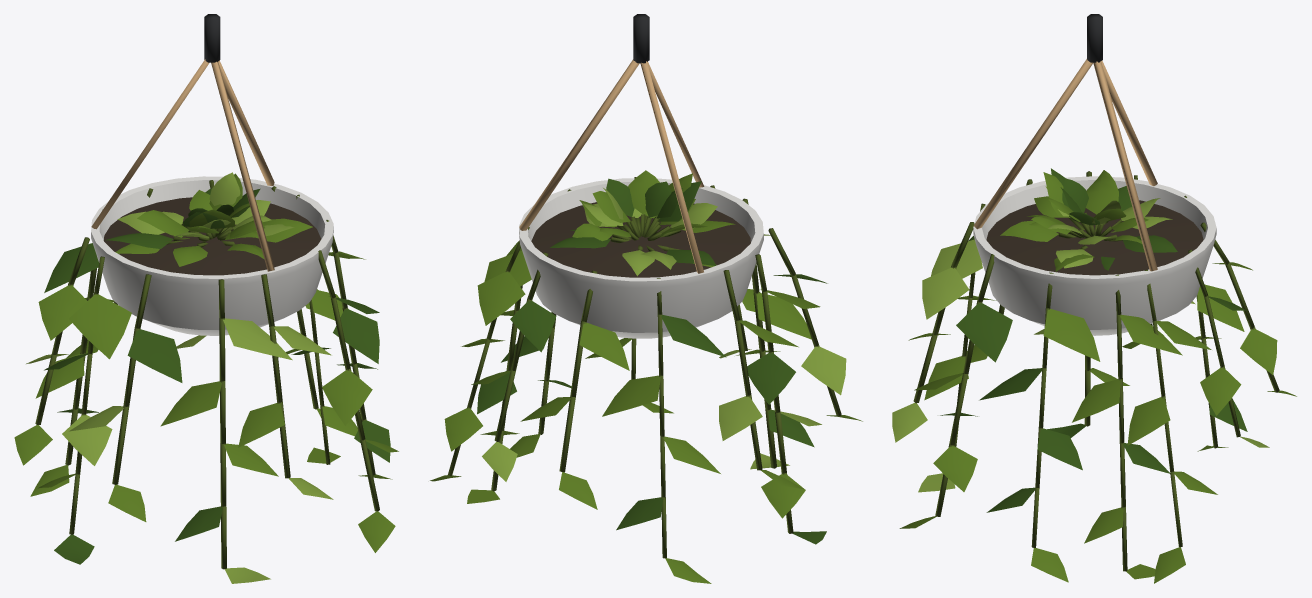
File: greenery.hanging-planter.glb
The picture shows the model from 3 angles, left to right: view 1: azimuth 30°, elevation 25°; view 2: azimuth 150°, elevation 25°; view 3: azimuth 270°, elevation 25°; orthographic projection.
Parts seen in each view (by area): view 1: greenery.hanging-planter.001; view 2: greenery.hanging-planter.001; view 3: greenery.hanging-planter.001.
Part boxes in pixels (box(x1,y1,x2,y2)): greenery.hanging-planter.001: box(14, 14, 398, 583); greenery.hanging-planter.001: box(430, 14, 862, 583); greenery.hanging-planter.001: box(892, 14, 1296, 583).
Bounding box in the file's own units: 0.3 × 0.4 × 0.3.
